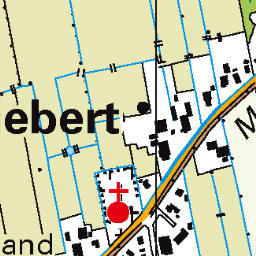church: (103, 180, 132, 225)
